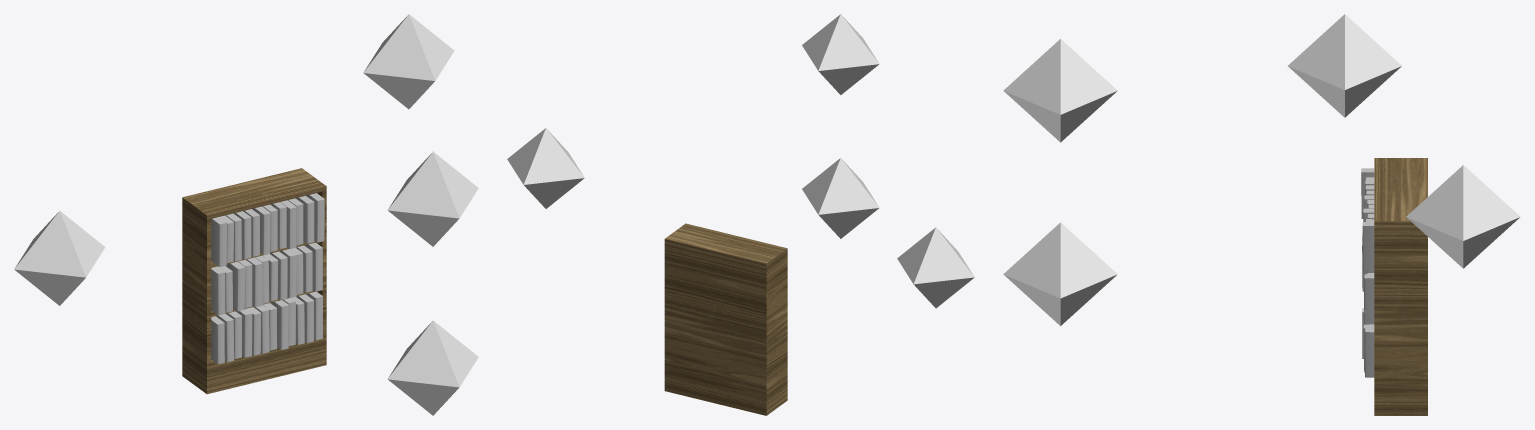
File: bookshelf.fbx
3 renders of one model, left to right at view 1: azimuth 30°, elevation 25°; view 2: azimuth 150°, elevation 25°; view 3: azimuth 270°, elevation 25°, orthographic. The views are drawn at different scales.
Visible parts, largest first — view 1: bookshelf, l_point, go_MovingPlatform, l_point001, l_point002, o_book, o_book012, o_book014, o_book024, o_book031, o_book010, o_book011 (+17 smaller); view 2: bookshelf, go_MovingPlatform, l_point002, l_point001, l_point; view 3: bookshelf, l_point001, l_point, l_point002, go_MovingPlatform, o_book011, o_book023, o_book035.
Part boxes in pixels (bbox=[...]): bookshelf: bbox=[182, 168, 326, 394]; l_point: bbox=[387, 151, 478, 246]; go_MovingPlatform: bbox=[387, 320, 478, 415]; l_point001: bbox=[14, 211, 105, 305]; l_point002: bbox=[363, 14, 454, 109]; o_book: bbox=[211, 217, 226, 266]; o_book012: bbox=[211, 266, 225, 315]; o_book014: bbox=[225, 261, 245, 311]; o_book024: bbox=[211, 316, 224, 364]; o_book031: bbox=[270, 300, 288, 349]; o_book010: bbox=[296, 195, 314, 243]; o_book011: bbox=[306, 193, 324, 242]; bookshelf: bbox=[664, 223, 787, 415]; go_MovingPlatform: bbox=[802, 158, 879, 238]; l_point002: bbox=[507, 128, 584, 208]; l_point001: bbox=[897, 227, 974, 308]; l_point: bbox=[802, 14, 879, 94]; bookshelf: bbox=[1374, 158, 1427, 415]; l_point001: bbox=[1288, 14, 1401, 117]; l_point: bbox=[1003, 39, 1117, 142]; l_point002: bbox=[1406, 165, 1520, 268]; go_MovingPlatform: bbox=[1003, 222, 1117, 325]; o_book011: bbox=[1362, 222, 1374, 270]; o_book023: bbox=[1364, 274, 1374, 323]; o_book035: bbox=[1365, 328, 1374, 377].
Size of what is drawn, in the model's own units: 5.79 by 3.67 by 4.82.
